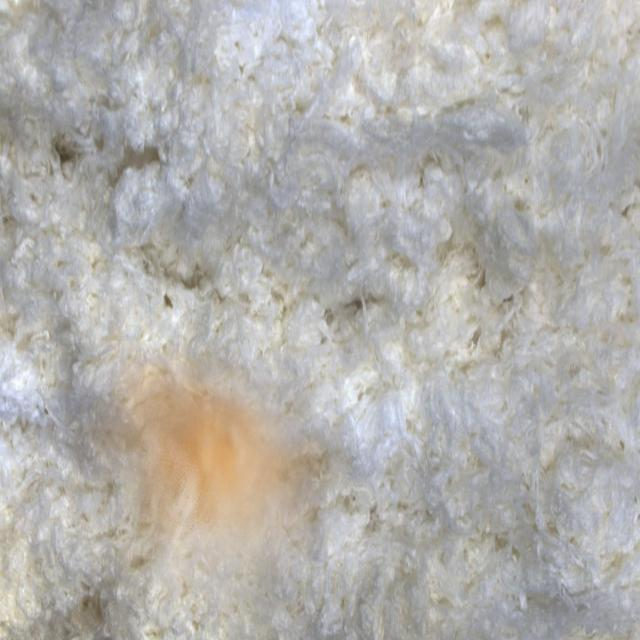dust: (65, 343, 344, 640)
